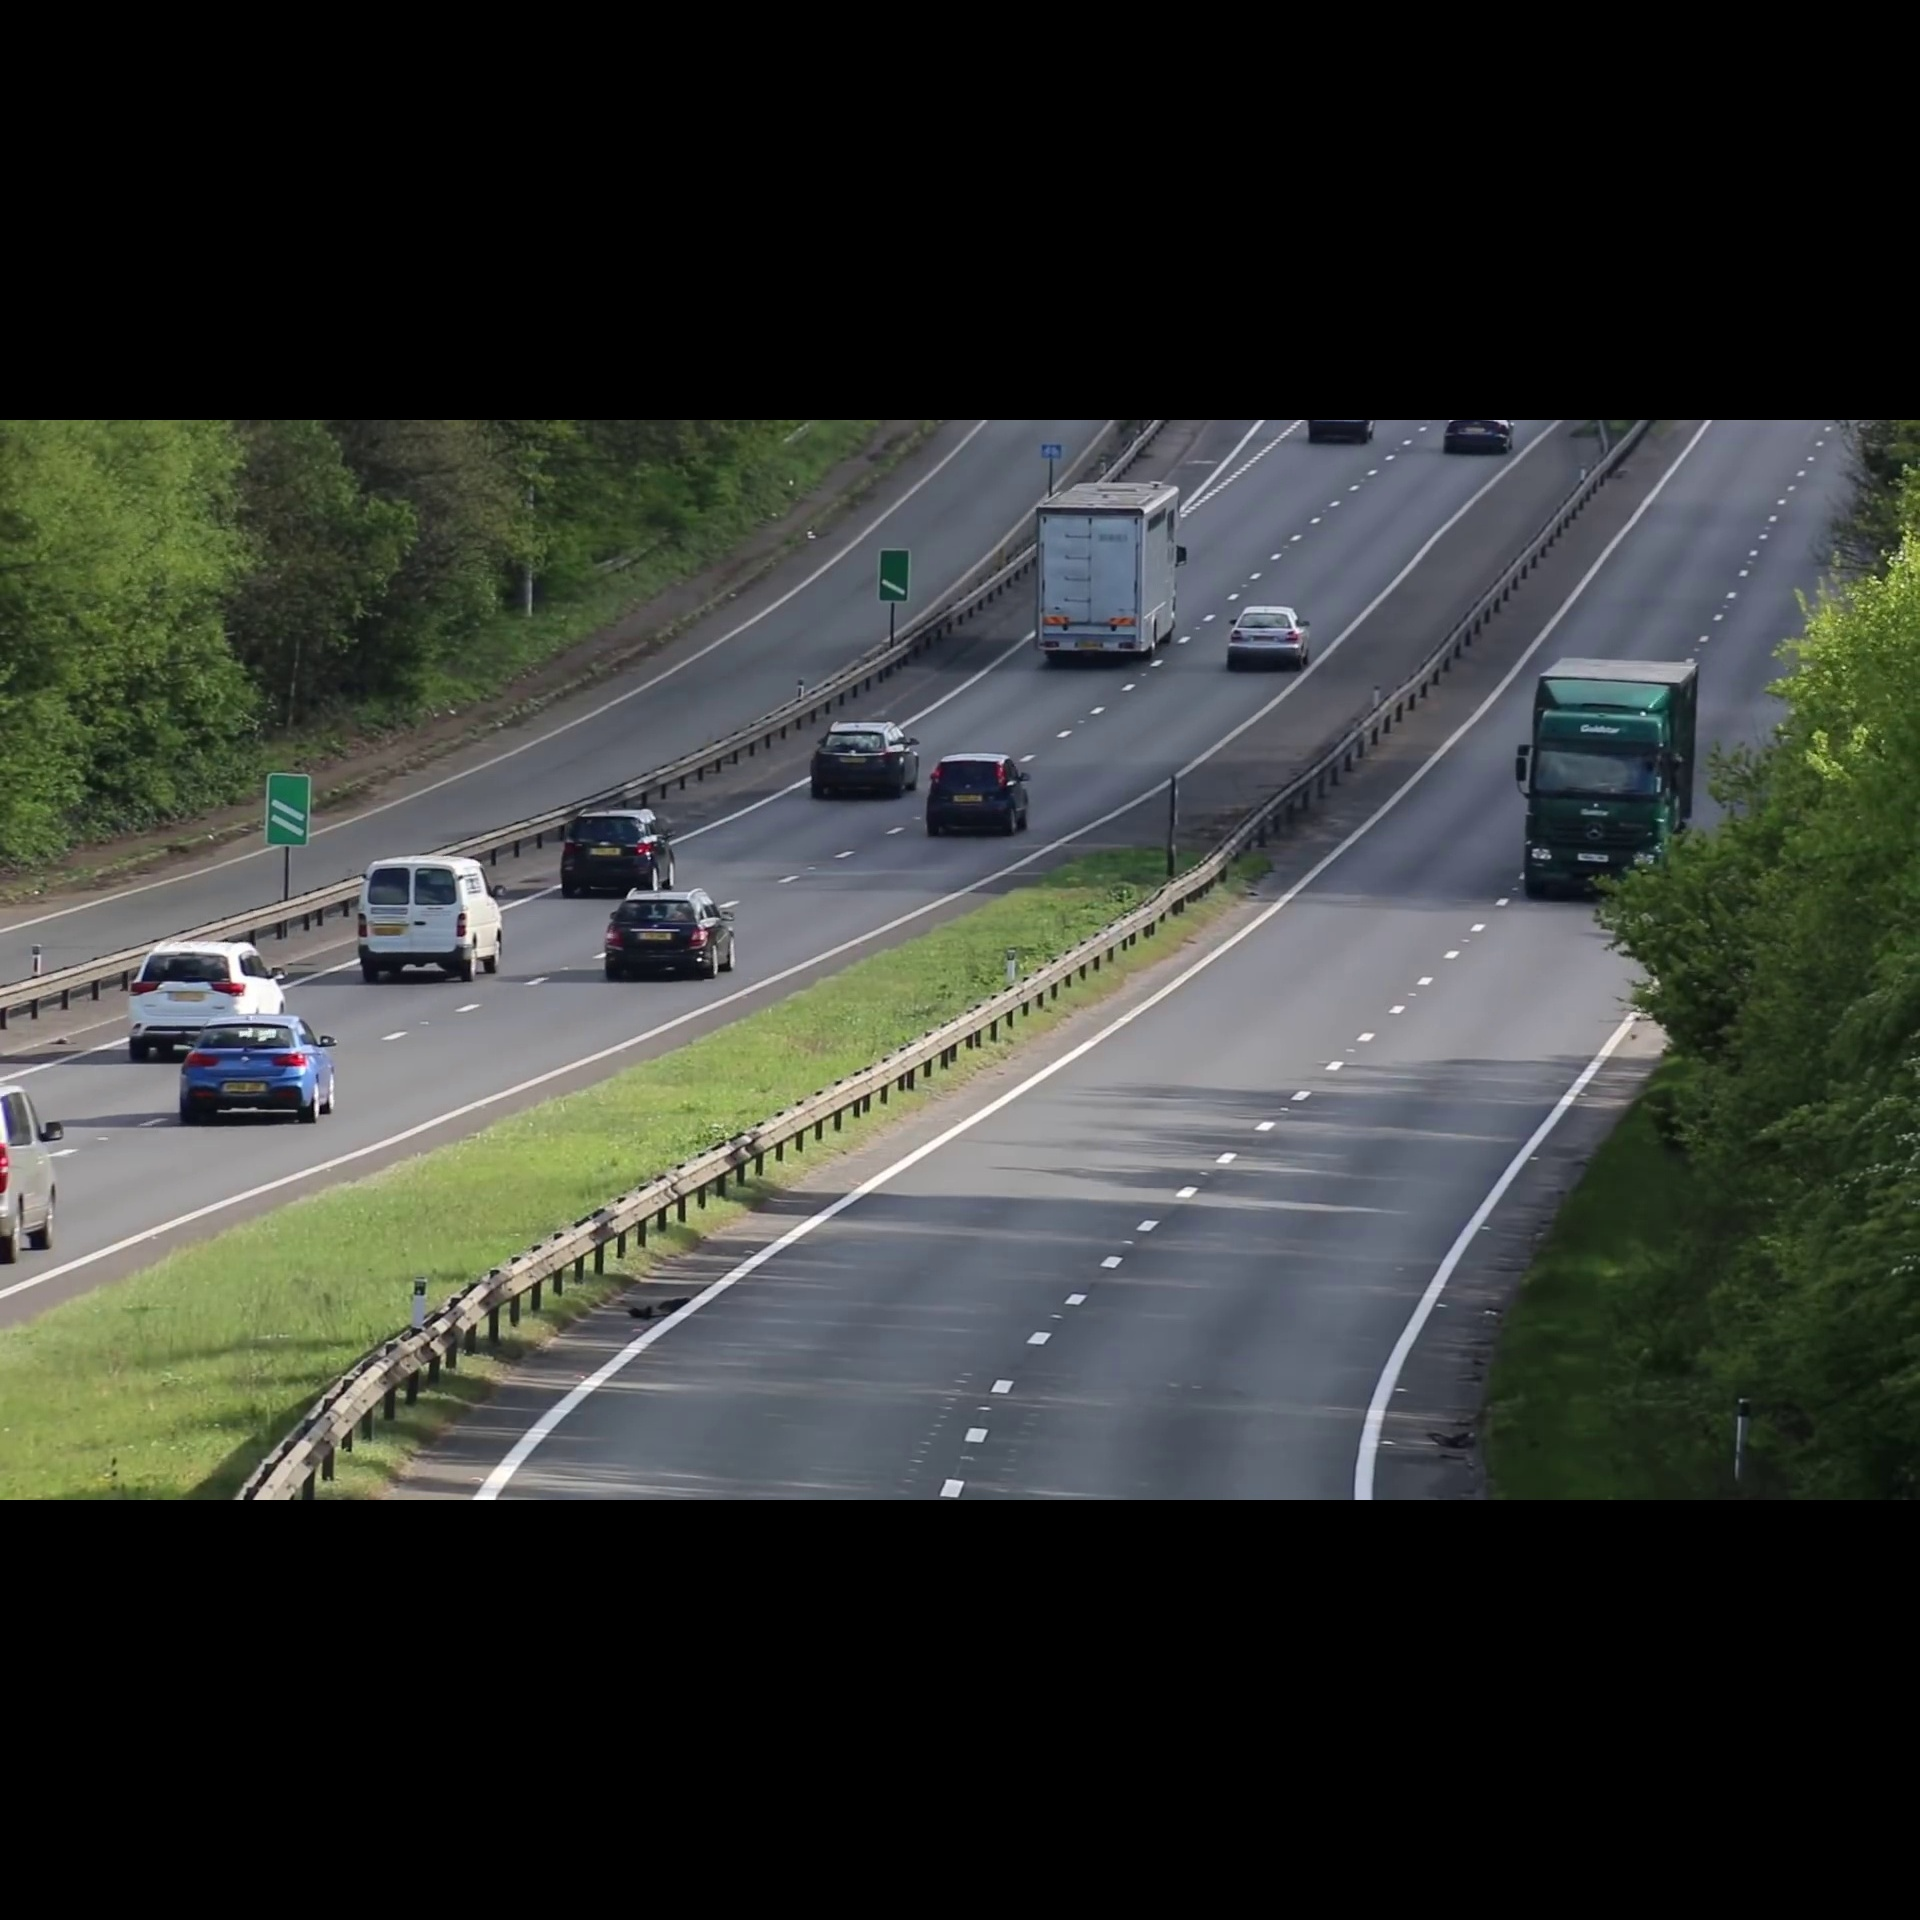vehicle: (1507, 645, 1698, 893), (1030, 473, 1189, 666), (353, 851, 506, 986), (176, 1013, 348, 1125), (121, 935, 288, 1034), (596, 886, 740, 986), (2, 1067, 67, 1262), (559, 804, 682, 893), (921, 751, 1036, 839), (811, 719, 927, 805), (1224, 600, 1315, 677), (1438, 420, 1523, 457)
